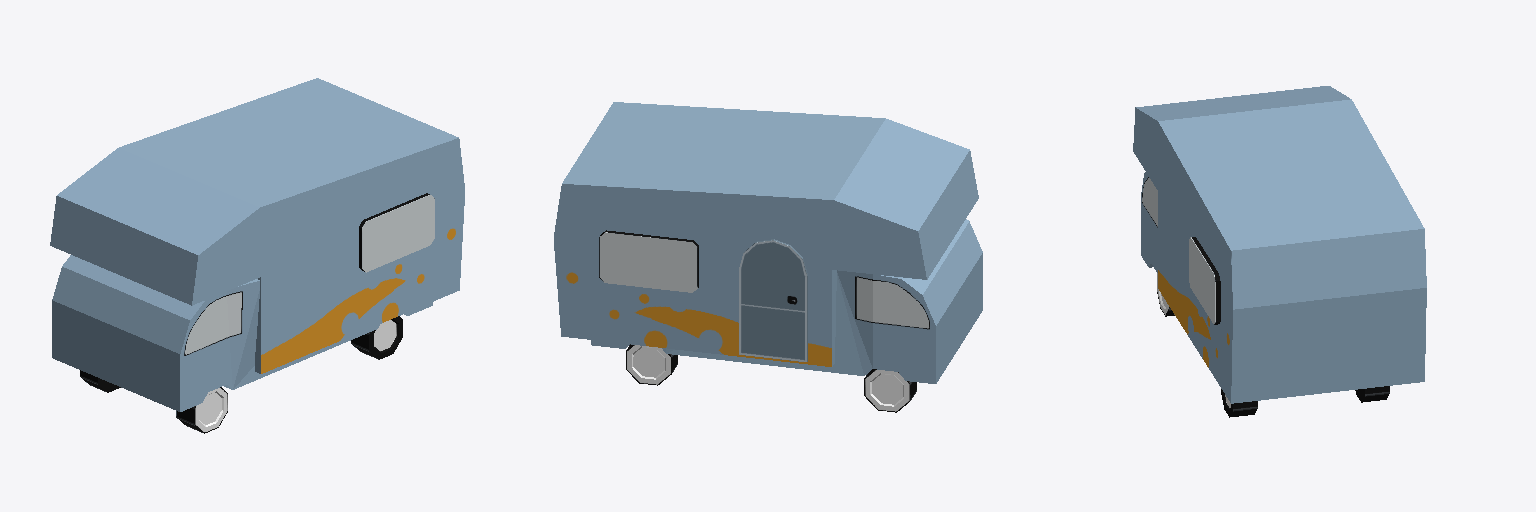
The picture shows the model from 3 angles: view 1: azimuth 30°, elevation 25°; view 2: azimuth 150°, elevation 25°; view 3: azimuth 270°, elevation 25°; orthographic projection.
Visible parts, largest first — view 1: Caravan; view 2: Caravan; view 3: Caravan.
Boxes of the visible parts, x1,y1,x2,y2 form: Caravan: [50, 78, 464, 433]; Caravan: [554, 102, 982, 412]; Caravan: [1133, 86, 1426, 417].
Size of the model in its own units: 0.1475 by 0.081 by 0.1009.
1 materials, 1 textured.